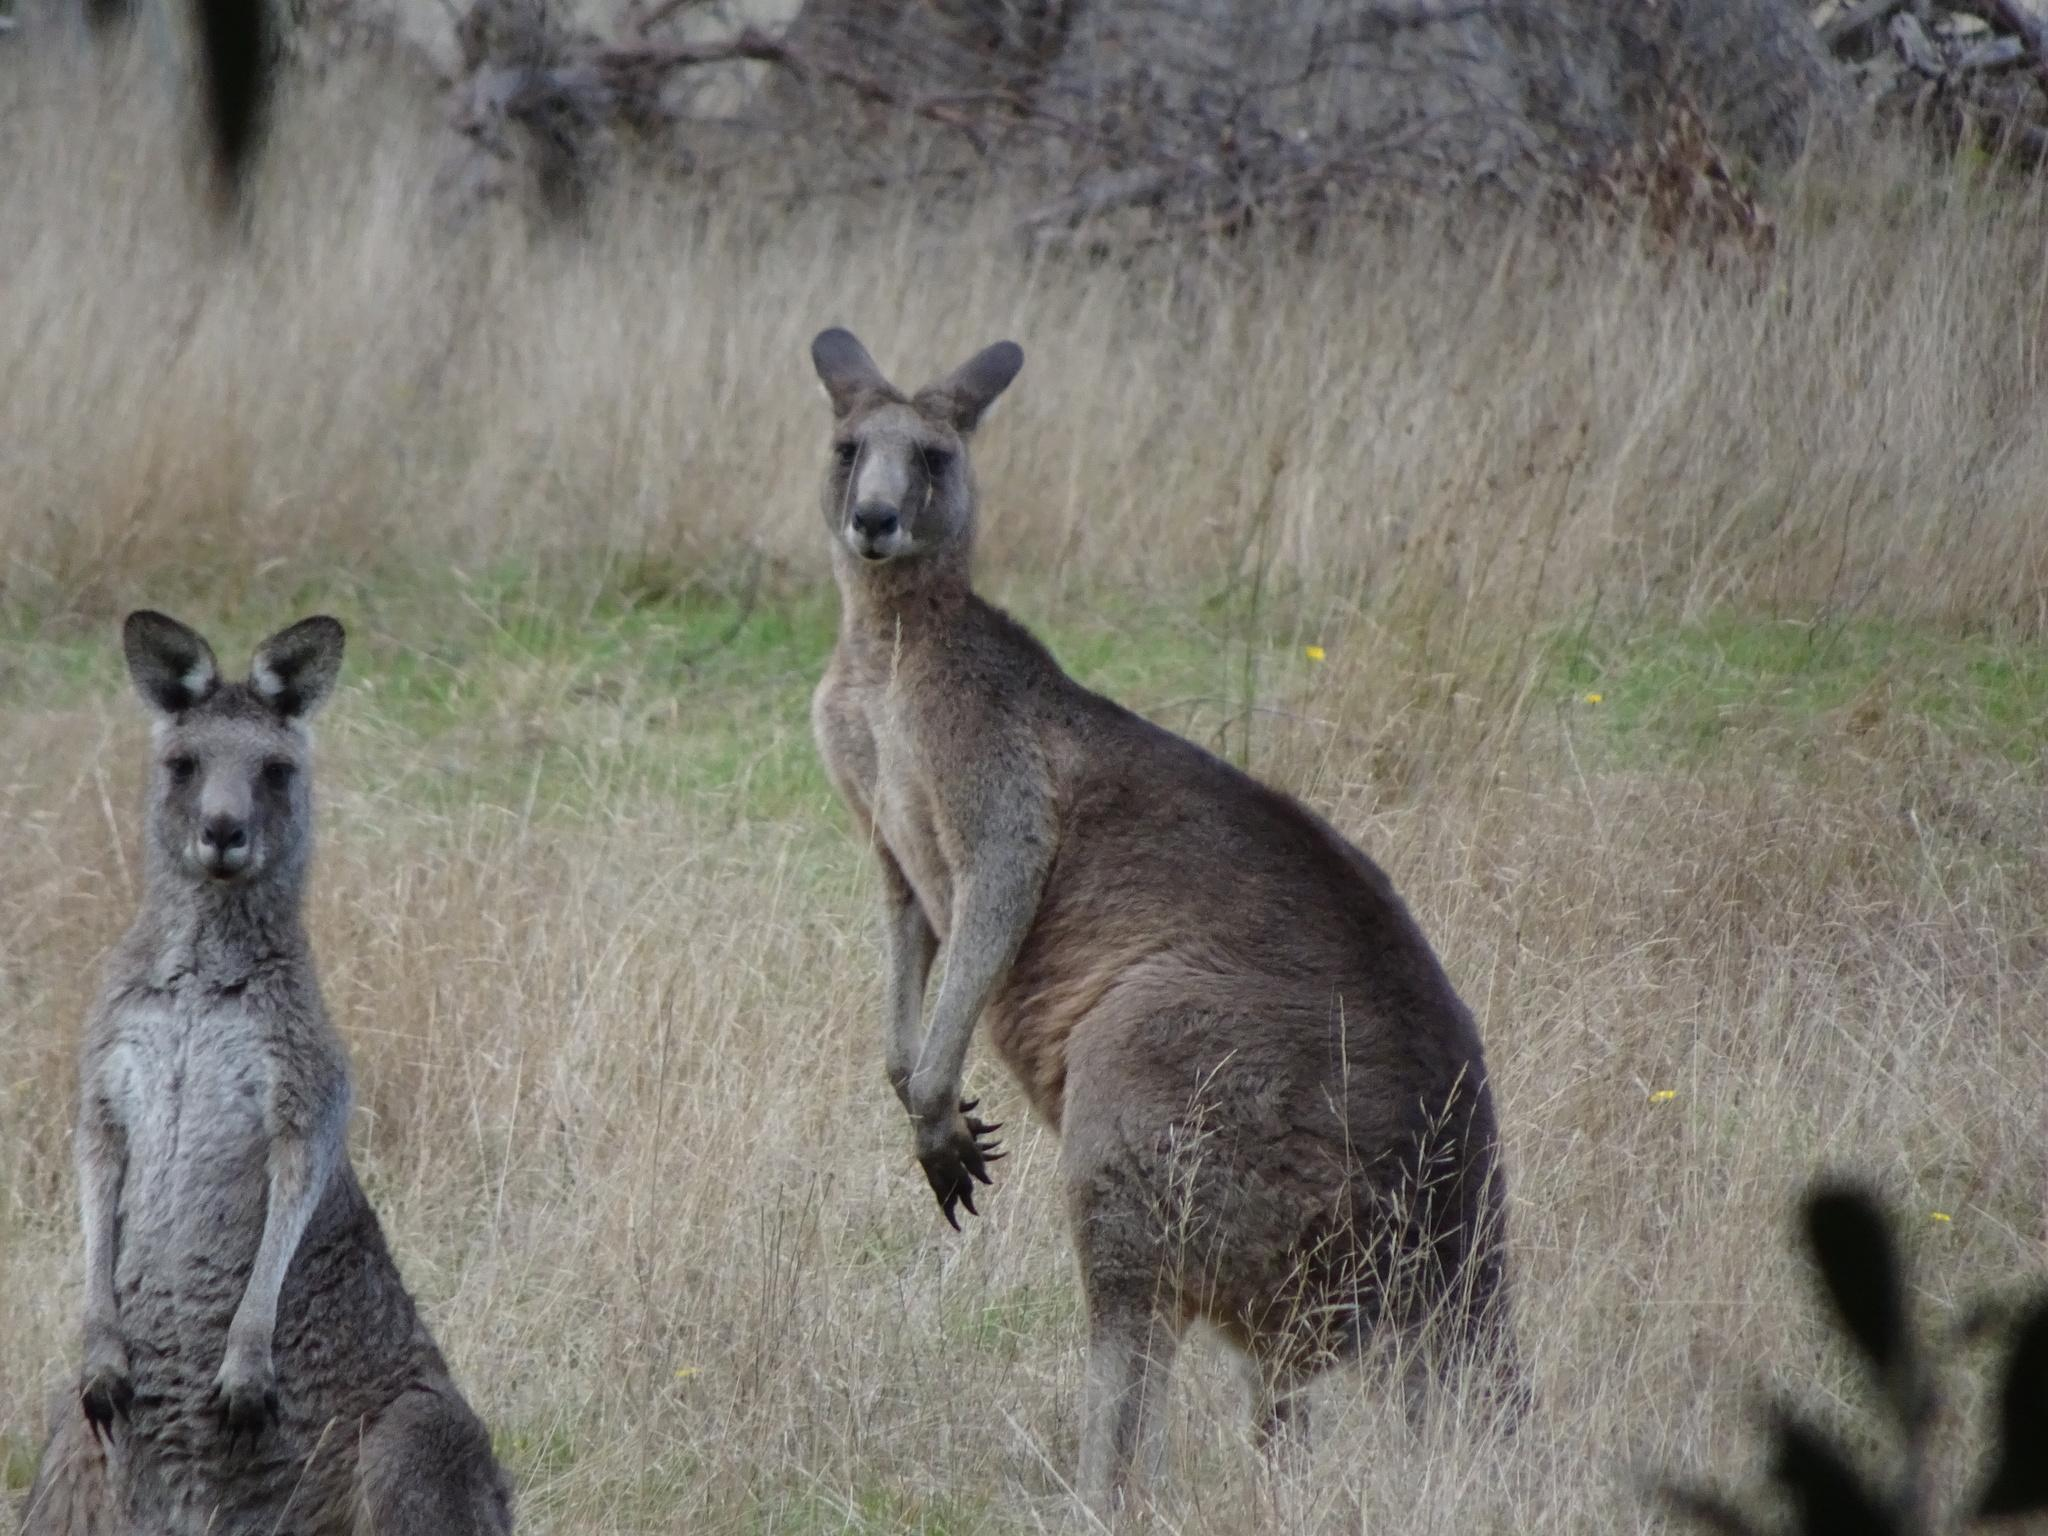Eastern grey kangaroo: (805, 324, 1577, 1518), (69, 605, 522, 1536)
